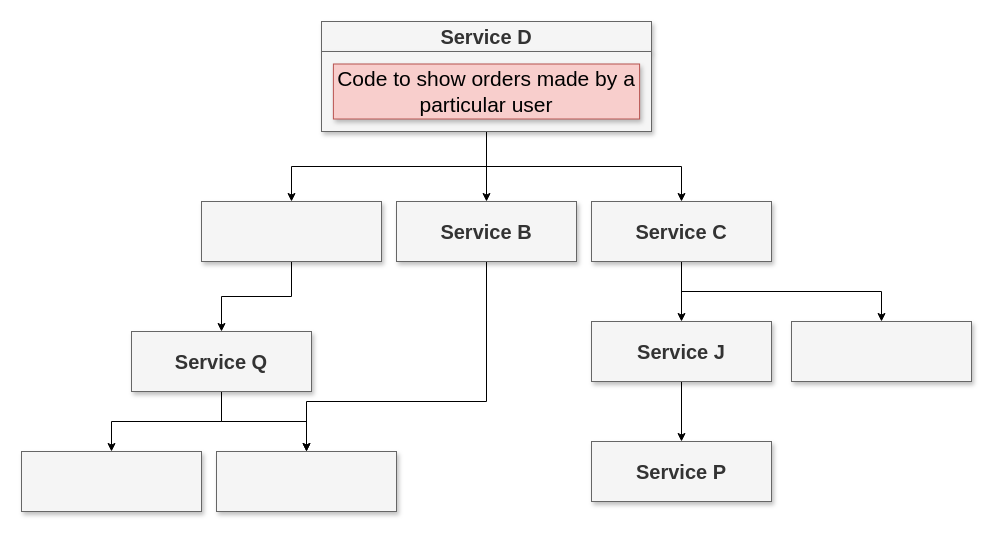
This 995x536 diagram has some shape labels left out. The shapes that lost their labels are listed below. From the top down, each one's centre as x and y in pixels, then its label:
At point 292,232: "Service A".
At point 882,352: "Service U".
At point 112,482: "Service Z".
At point 307,482: "Service X".
